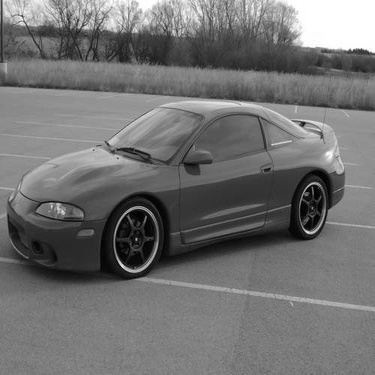car: (3, 97, 348, 283)
